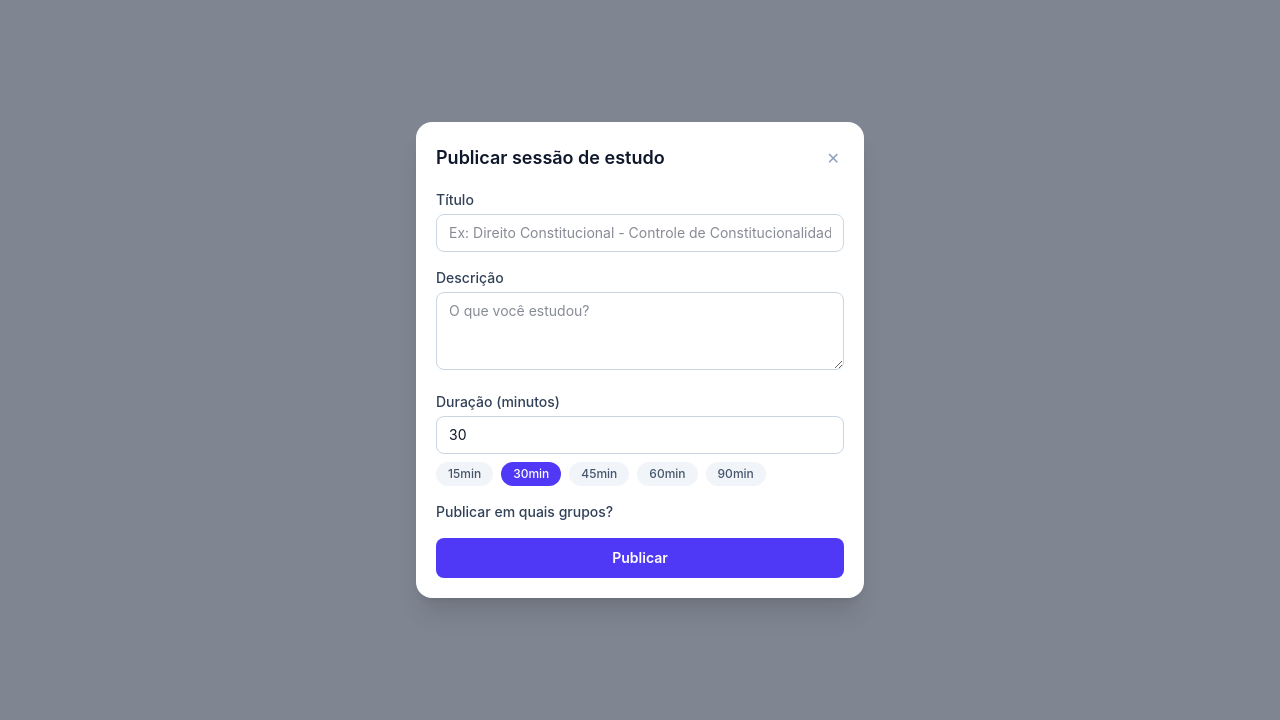
Test: PublishSessionModal › exige ao menos um grupo selecionado antes de publicar
Step 1. Type "Sessão de teste" into the field labelled "Título" → point(640, 233), box [436, 214, 844, 252]
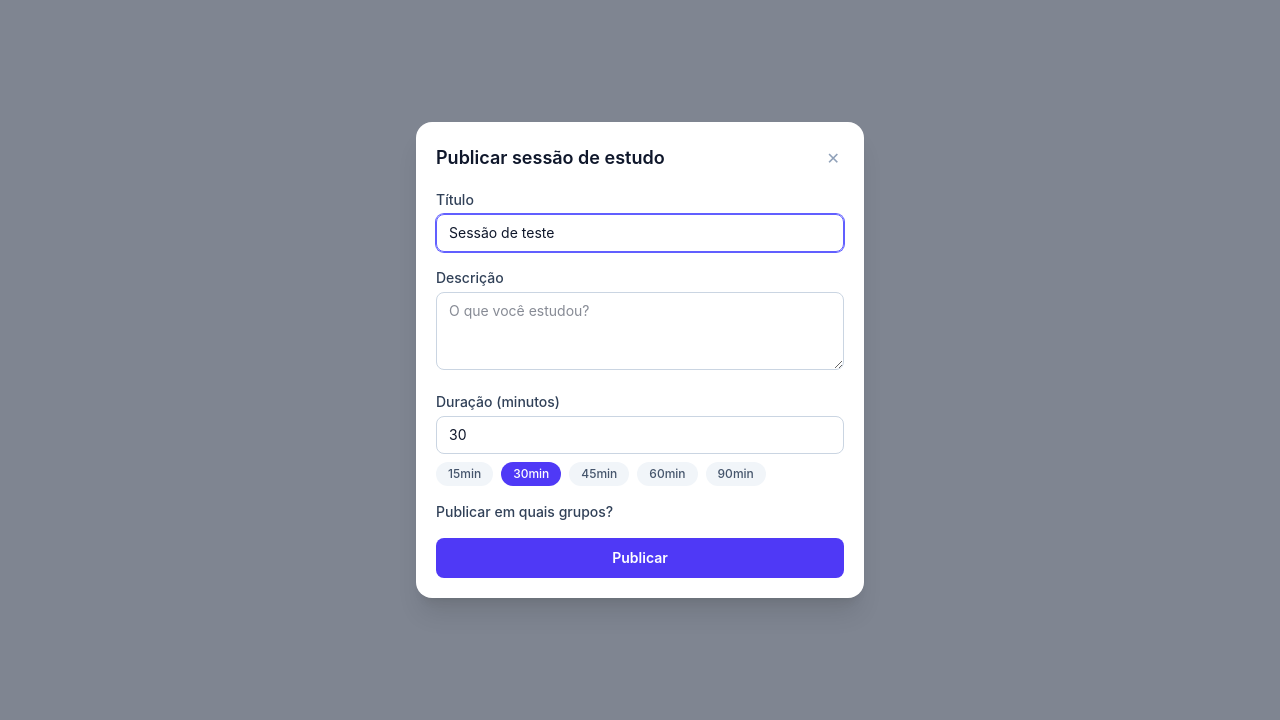
Step 2. Click the button "Publicar" → point(640, 558), box [436, 538, 844, 578]
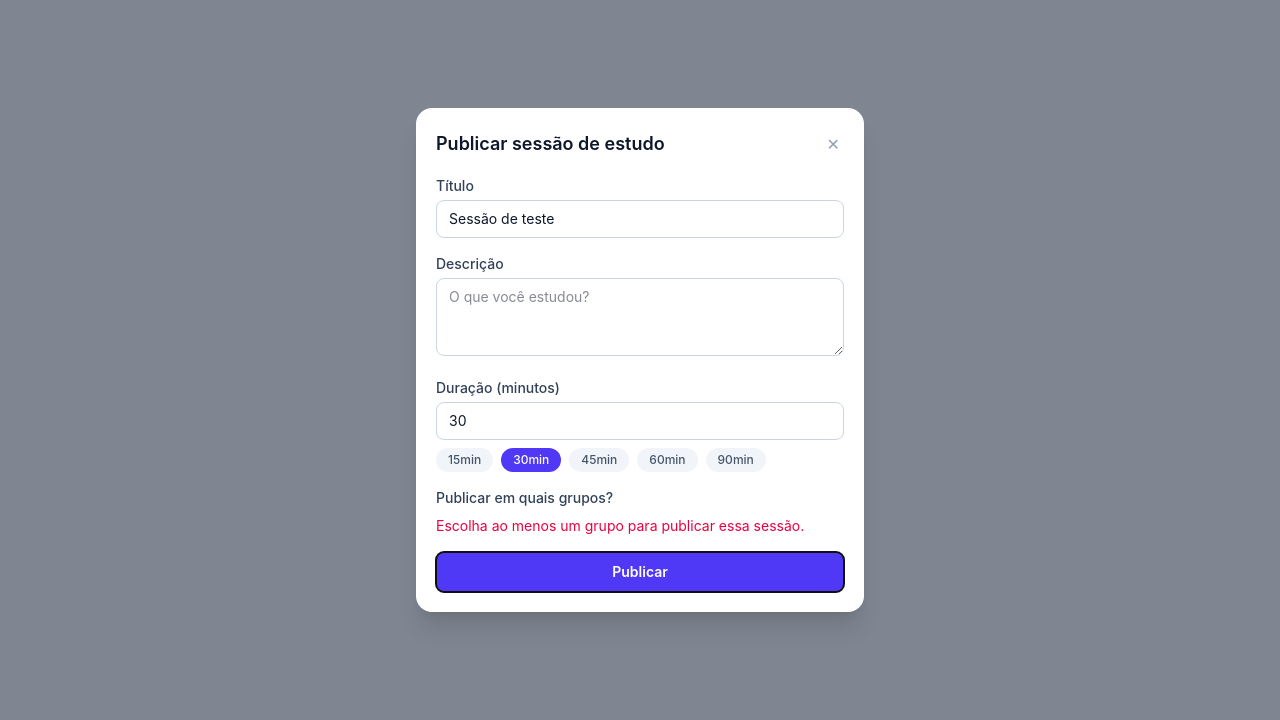
Now the text "Escolha ao menos um grupo para publicar essa sessão." is shown, box [436, 516, 844, 536]
